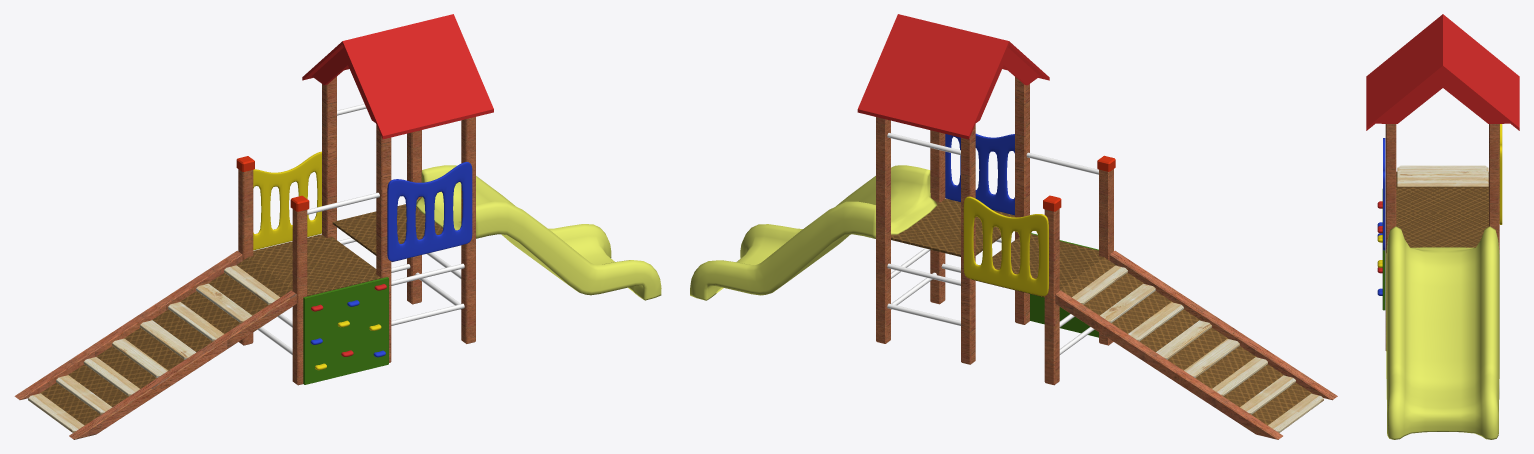
The model's file is parque.obj.
3 renders of one model, left to right at view 1: azimuth 30°, elevation 25°; view 2: azimuth 150°, elevation 25°; view 3: azimuth 270°, elevation 25°, orthographic. The views are drawn at different scales.
Parts seen in each view (by area): view 1: parkfloor_Cube.001, roof_Cube.033, slide_Cube.032, greenwall_Cube.018, plasticdoor_Cube.019, column_Cube.014, column2_Cube.016, side1_Cube.004, plasticdoor2_Cube.020, side2_Cube.005, lit_column_Cube.003, lit_column2_Cube.002 (+9 smaller); view 2: parkfloor_Cube.001, roof_Cube.033, slide_Cube.032, plasticdoor2_Cube.020, column_Cube.014, column2_Cube.016, side2_Cube.005, side1_Cube.004, plasticdoor_Cube.019, lit_column2_Cube.002, lit_column_Cube.003, greenwall_Cube.018 (+9 smaller); view 3: slide_Cube.032, roof_Cube.033, parkfloor_Cube.001, column2_Cube.016, connectroof_Cube.017, step8_Cube, plasticdoor2_Cube.020, plasticdoor_Cube.019, greenwall_Cube.018, step8.007_Cube.013, step8.005_Cube.011, step8.006_Cube.012 (+4 smaller).
Part boxes in pixels (x1,y1,x2,y2): parkfloor_Cube.001: (40,204,453,425); roof_Cube.033: (302,14,493,139); slide_Cube.032: (416,165,661,300); greenwall_Cube.018: (303,277,388,384); plasticdoor_Cube.019: (387,161,472,261); column_Cube.014: (322,76,391,362); column2_Cube.016: (407,117,475,343); side1_Cube.004: (69,290,296,439); plasticdoor2_Cube.020: (253,151,321,250); side2_Cube.005: (14,250,242,399); lit_column_Cube.003: (290,195,309,385); lit_column2_Cube.002: (236,156,254,345); parkfloor_Cube.001: (891,198,1312,425); roof_Cube.033: (857,14,1049,139); slide_Cube.032: (690,165,937,300); plasticdoor2_Cube.020: (963,196,1048,296); column_Cube.014: (961,77,1029,364); column2_Cube.016: (876,117,945,343); side2_Cube.005: (1055,290,1282,439); side1_Cube.004: (1109,250,1337,400); plasticdoor_Cube.019: (945,133,1014,215); lit_column2_Cube.002: (1043,195,1061,385); lit_column_Cube.003: (1097,155,1115,345); greenwall_Cube.018: (1030,233,1098,337); slide_Cube.032: (1386,226,1499,439); roof_Cube.033: (1366,14,1519,130); parkfloor_Cube.001: (1396,171,1488,247); column2_Cube.016: (1385,124,1499,350); connectroof_Cube.017: (1376,69,1509,123); step8_Cube: (1397,180,1488,186); plasticdoor2_Cube.020: (1499,124,1502,224); plasticdoor_Cube.019: (1383,138,1385,250); greenwall_Cube.018: (1382,189,1385,310); step8.007_Cube.013: (1397,165,1488,169); step8.005_Cube.011: (1397,169,1488,173); step8.006_Cube.012: (1397,167,1488,171).
Bounding box in the file's own units: 602 × 296 × 142.
12 materials, 4 textured.
